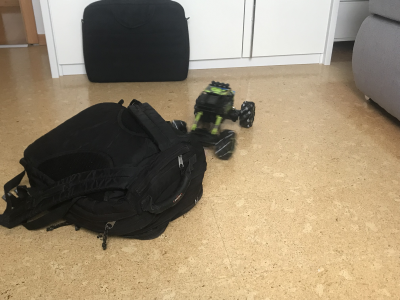remote control car: (169, 76, 256, 161)
